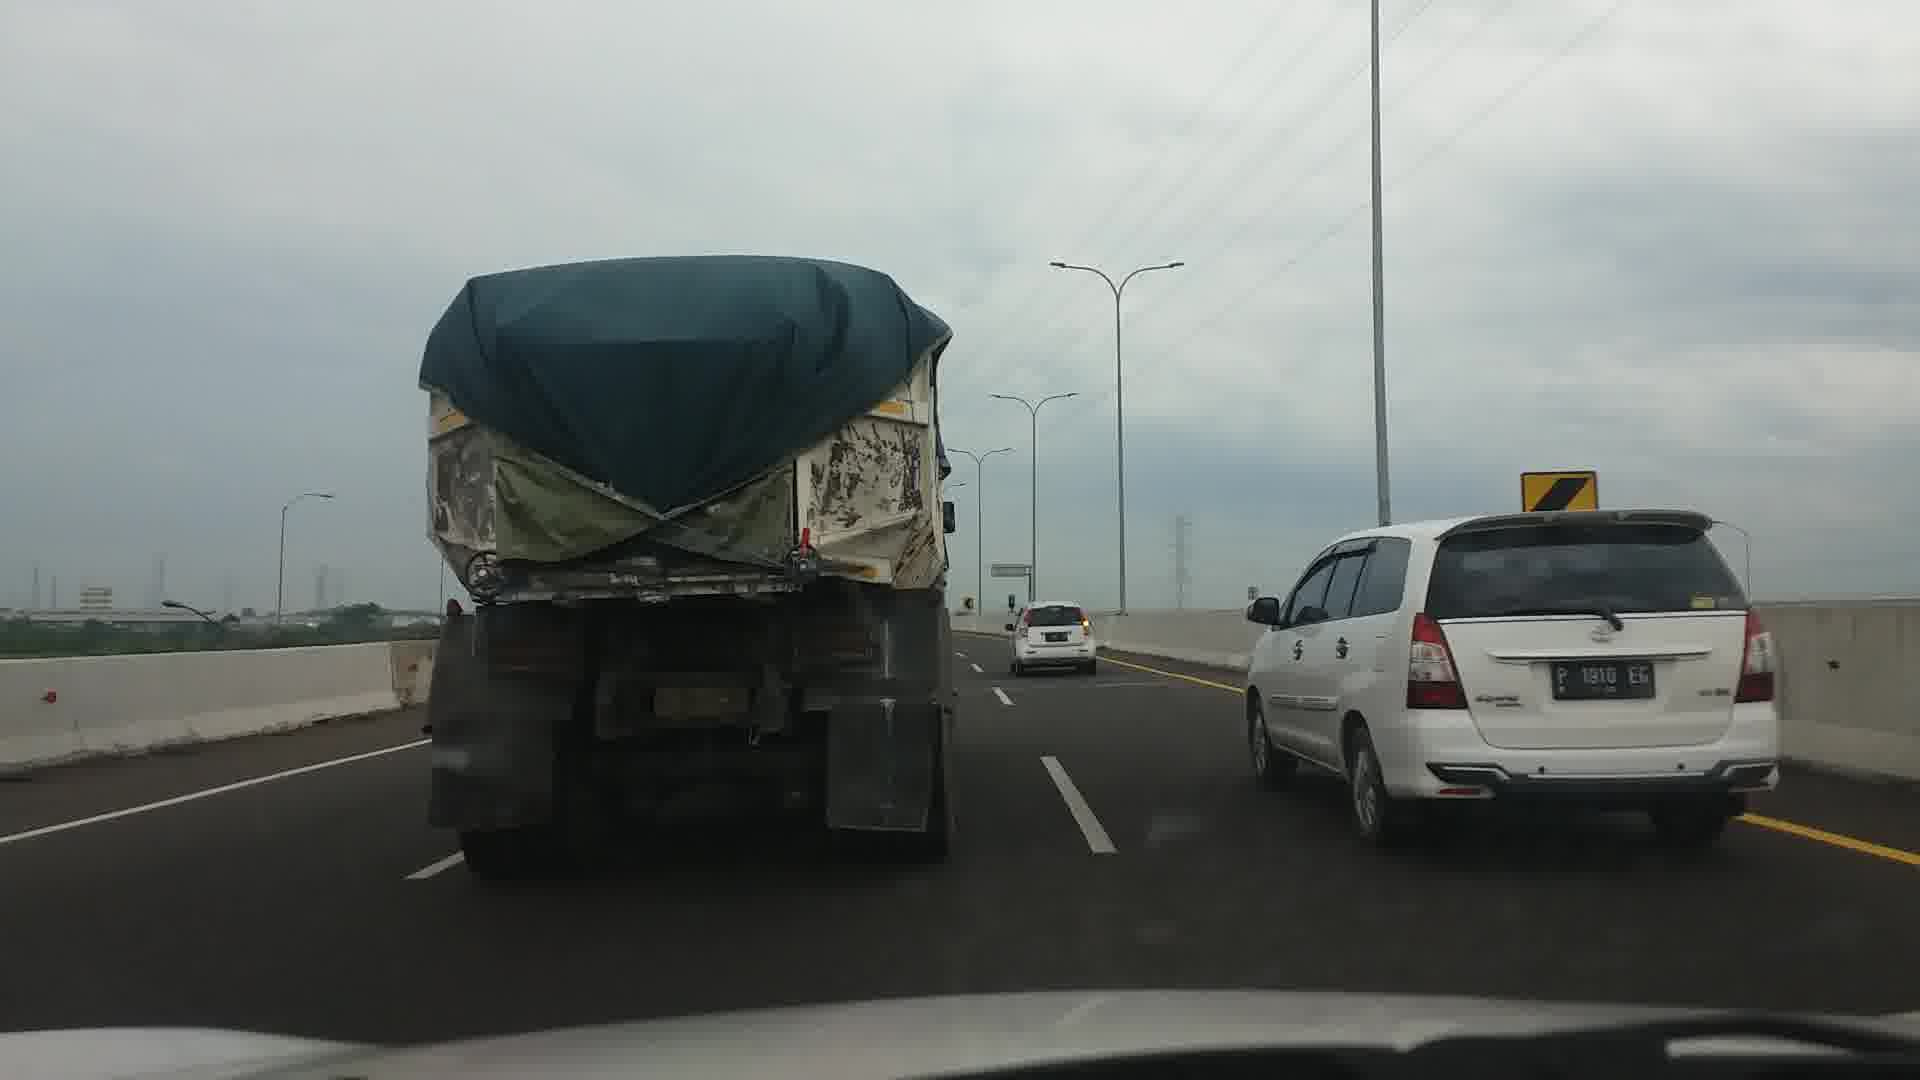plate_positive: (1552, 659, 1656, 702), (654, 688, 749, 713), (1044, 632, 1068, 641)
